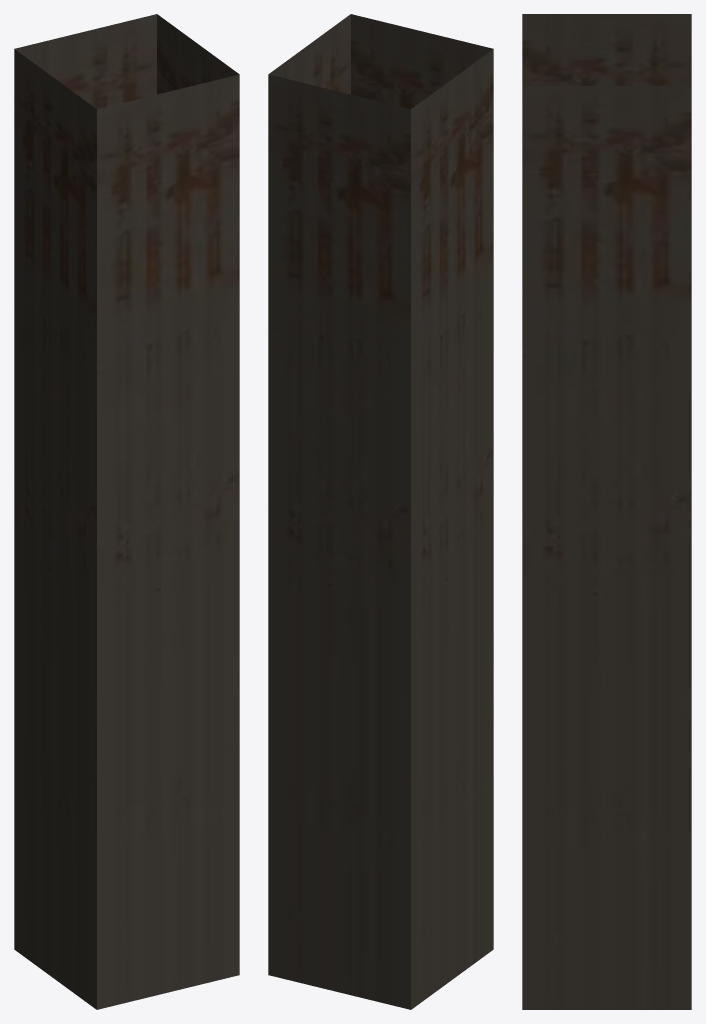
The model's file is Metal_Column_Center.glb.
The picture shows the model from 3 angles, left to right: view 1: azimuth 30°, elevation 25°; view 2: azimuth 150°, elevation 25°; view 3: azimuth 270°, elevation 25°; orthographic projection. The views are drawn at different scales.
Parts seen in each view (by area): view 1: Metal_Column_Center; view 2: Metal_Column_Center; view 3: Metal_Column_Center.
Part boxes in pixels (box(x1,y1,x2,y2)): Metal_Column_Center: box(14, 14, 239, 1009); Metal_Column_Center: box(268, 14, 493, 1009); Metal_Column_Center: box(522, 14, 691, 1009).
Bounding box in the file's own units: 0.4977 × 3 × 0.4983.
Materials: 1 (1 with a texture image).
